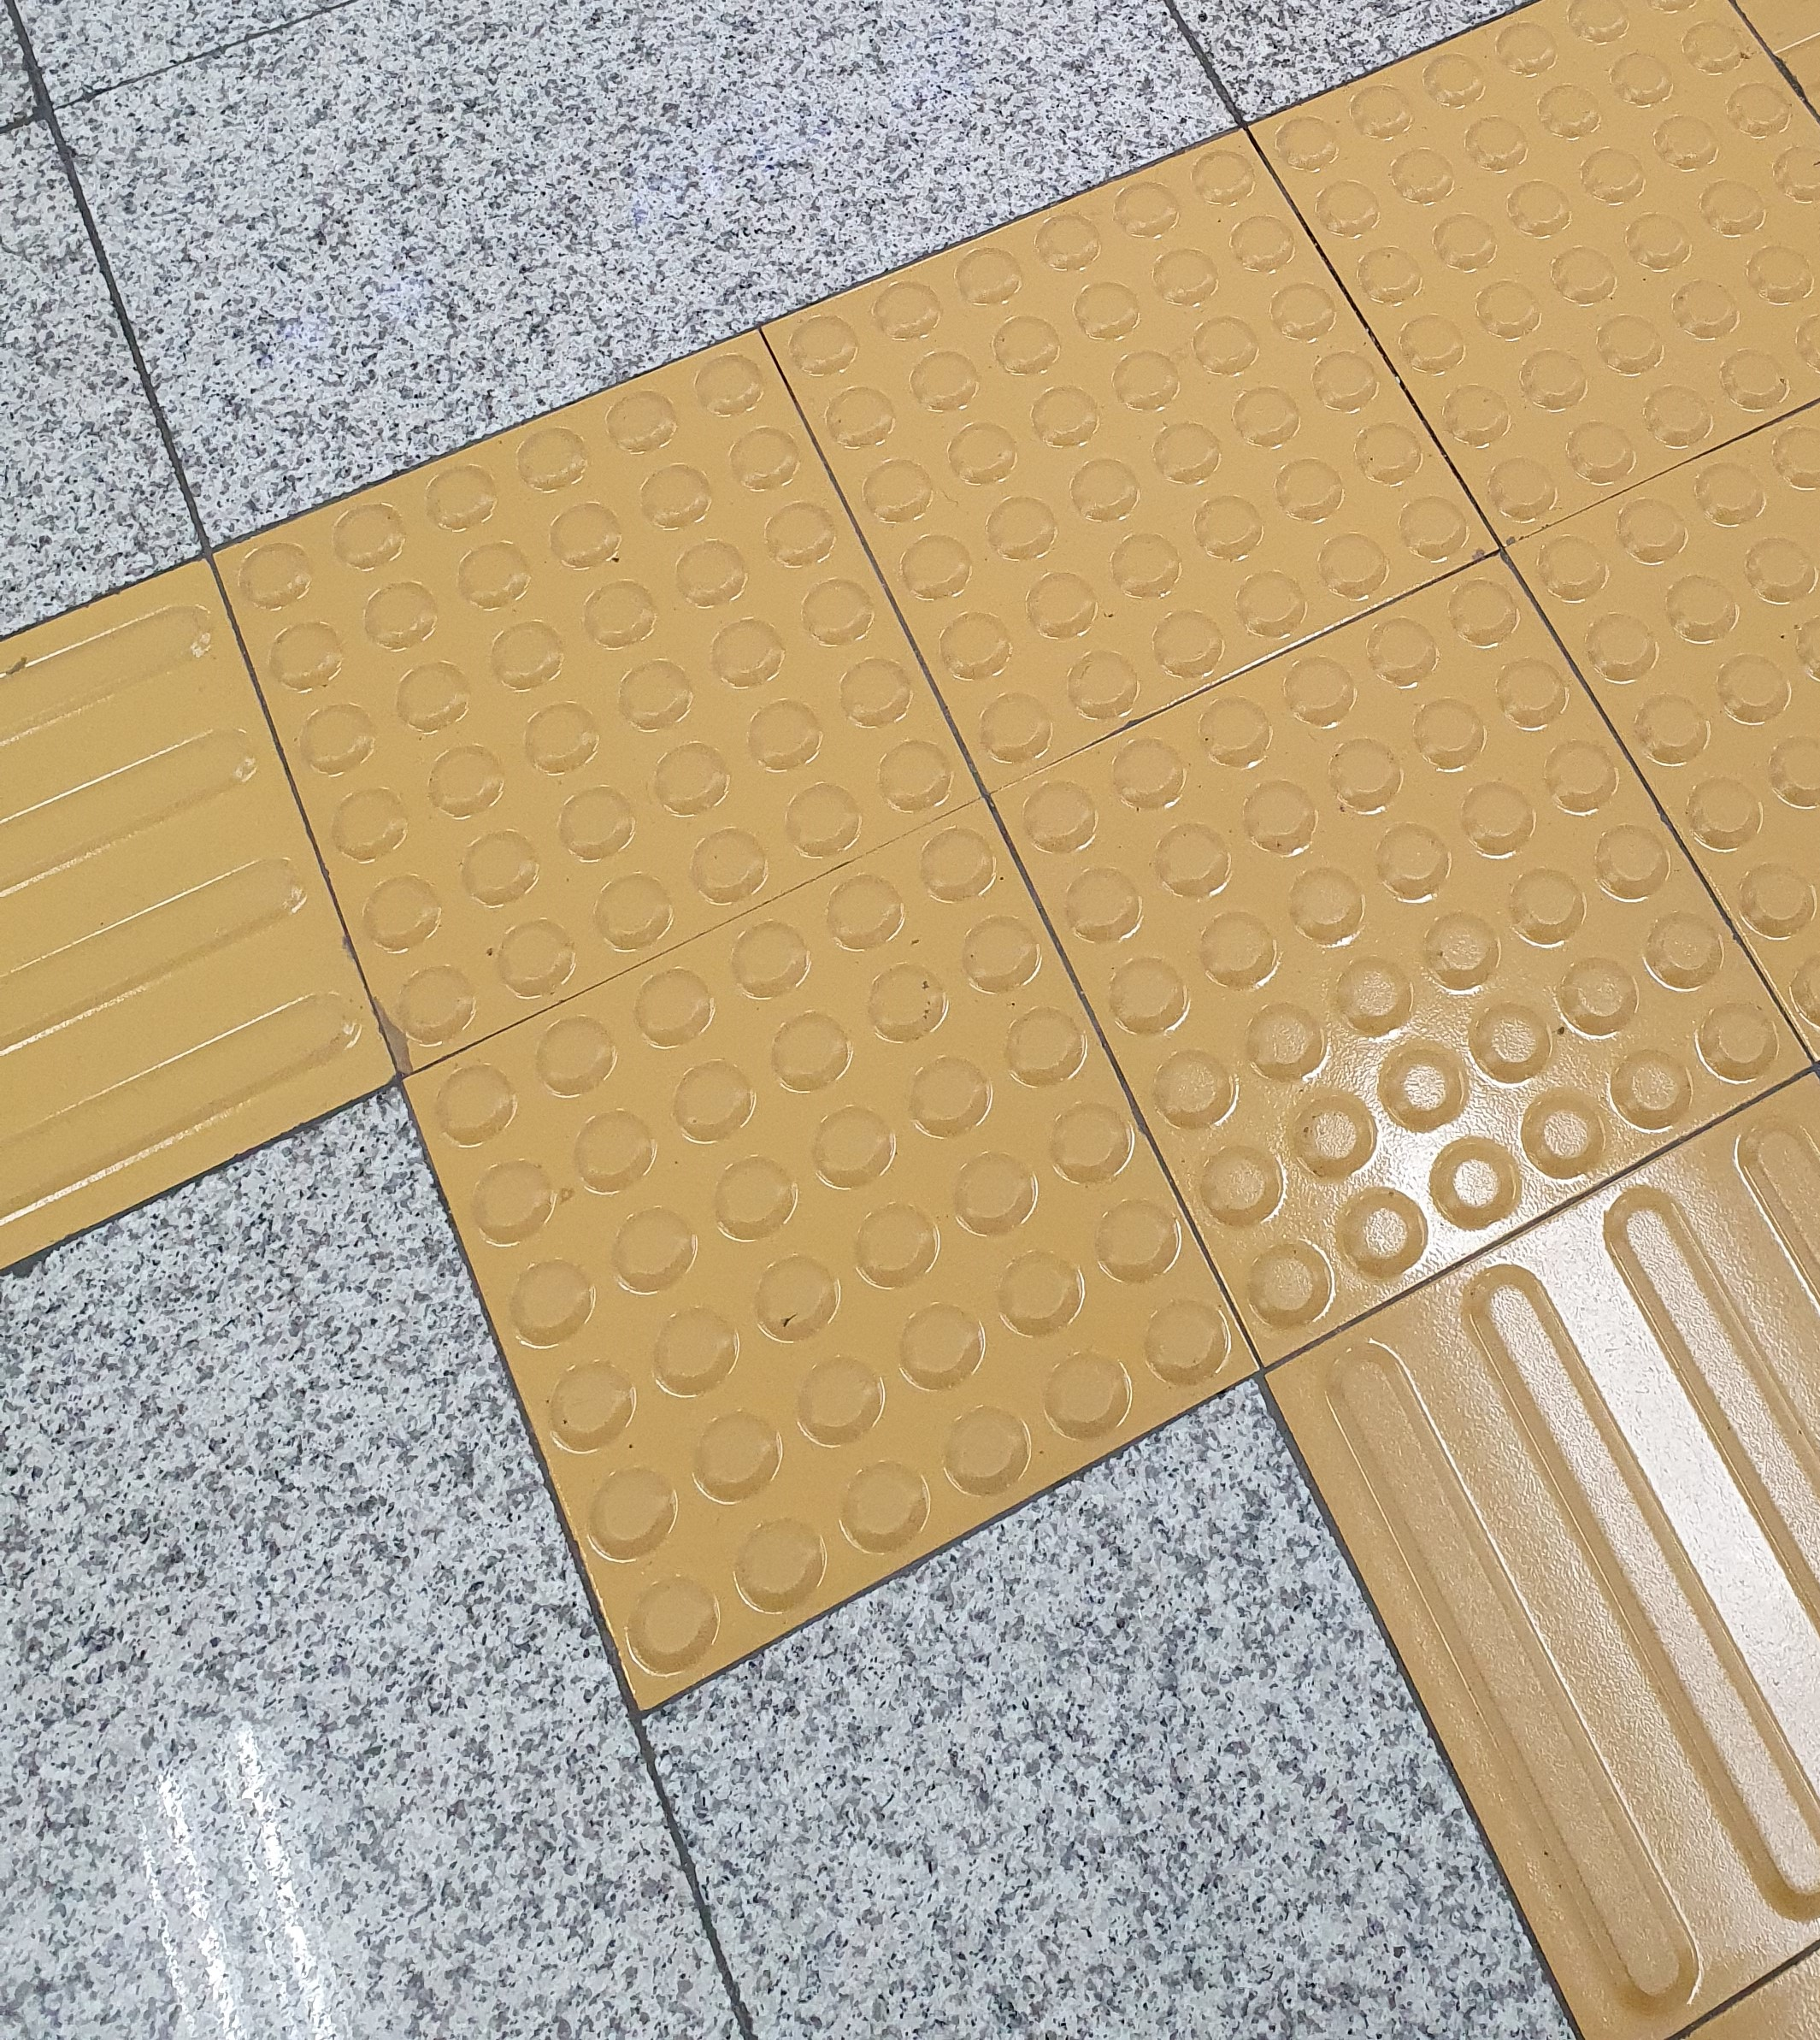warningBlock: (434, 857, 1152, 1530), (1073, 657, 1681, 1239), (789, 186, 1425, 699), (330, 446, 940, 947), (1293, 28, 1820, 459), (1530, 411, 1820, 1044)
